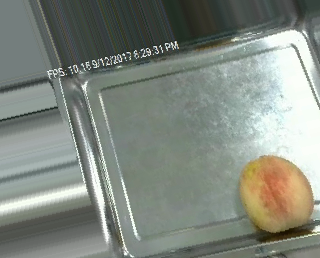Peach: (239, 154, 314, 233)
